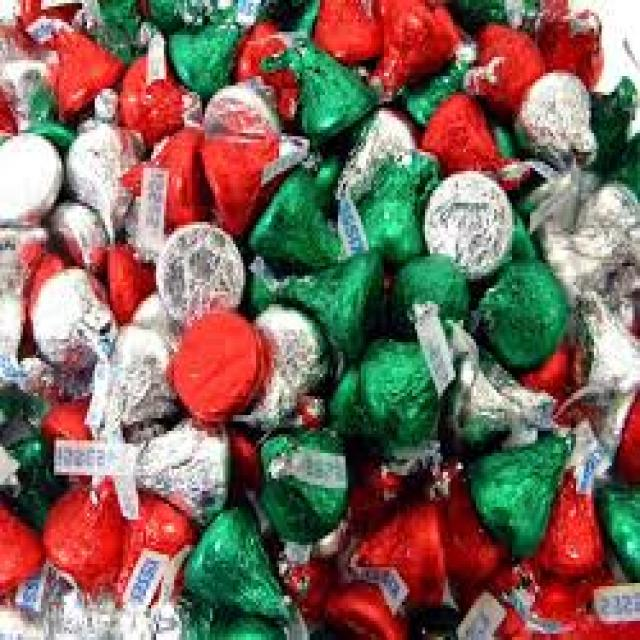kisses: (120, 419, 236, 520), (422, 162, 510, 282), (562, 277, 640, 408), (518, 61, 610, 172), (330, 102, 415, 221), (65, 130, 138, 256), (163, 214, 251, 316), (30, 266, 120, 364), (536, 216, 632, 306), (101, 326, 188, 424), (0, 117, 67, 242), (266, 314, 320, 407)
